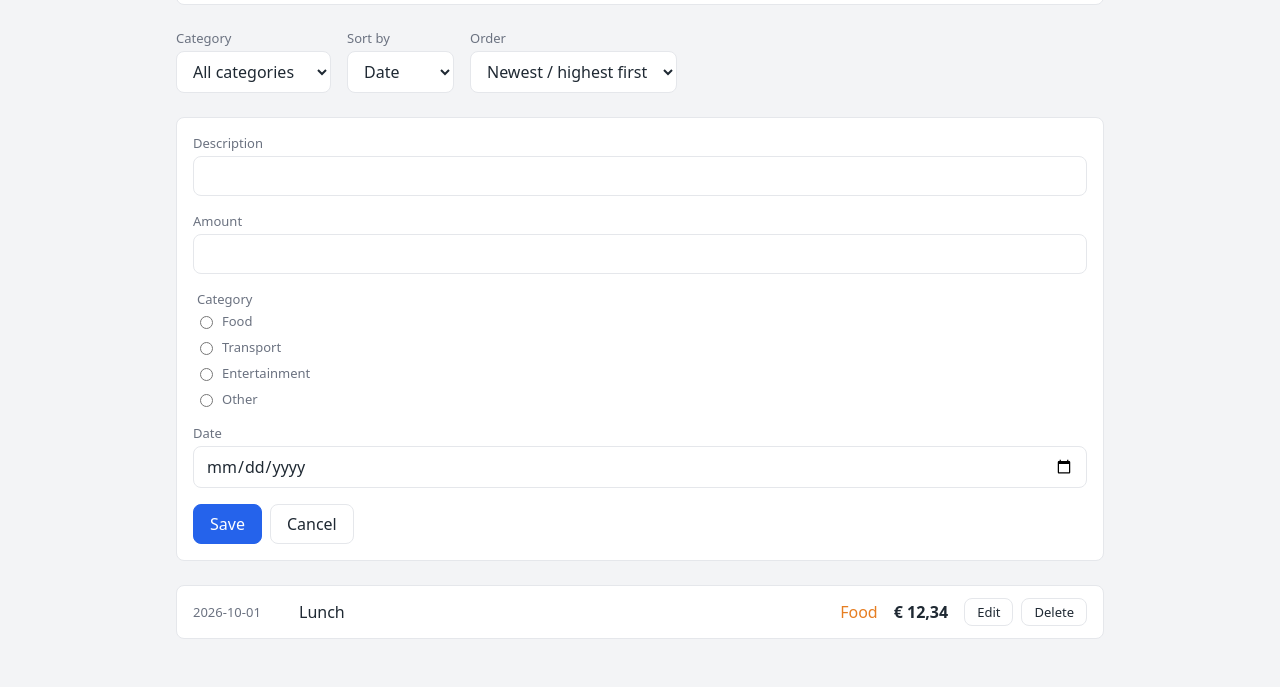
Test: App › leaves the list untouched when the delete dialog is dismissed
(page scrolled)
Click the button "Delete" at [1054, 612], box [1022, 598, 1087, 626]
(page scrolled)
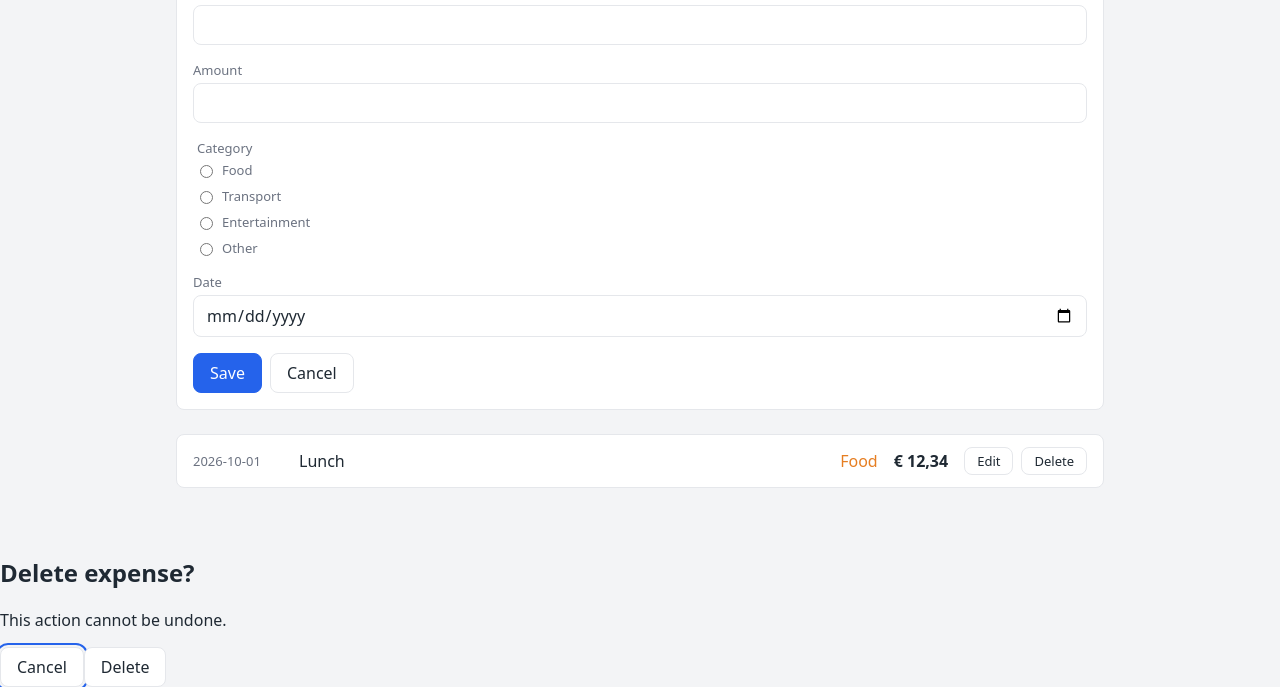
Click the button "Cancel" below "This action cannot be undone." at [42, 667], box [0, 647, 84, 686]
(page scrolled)
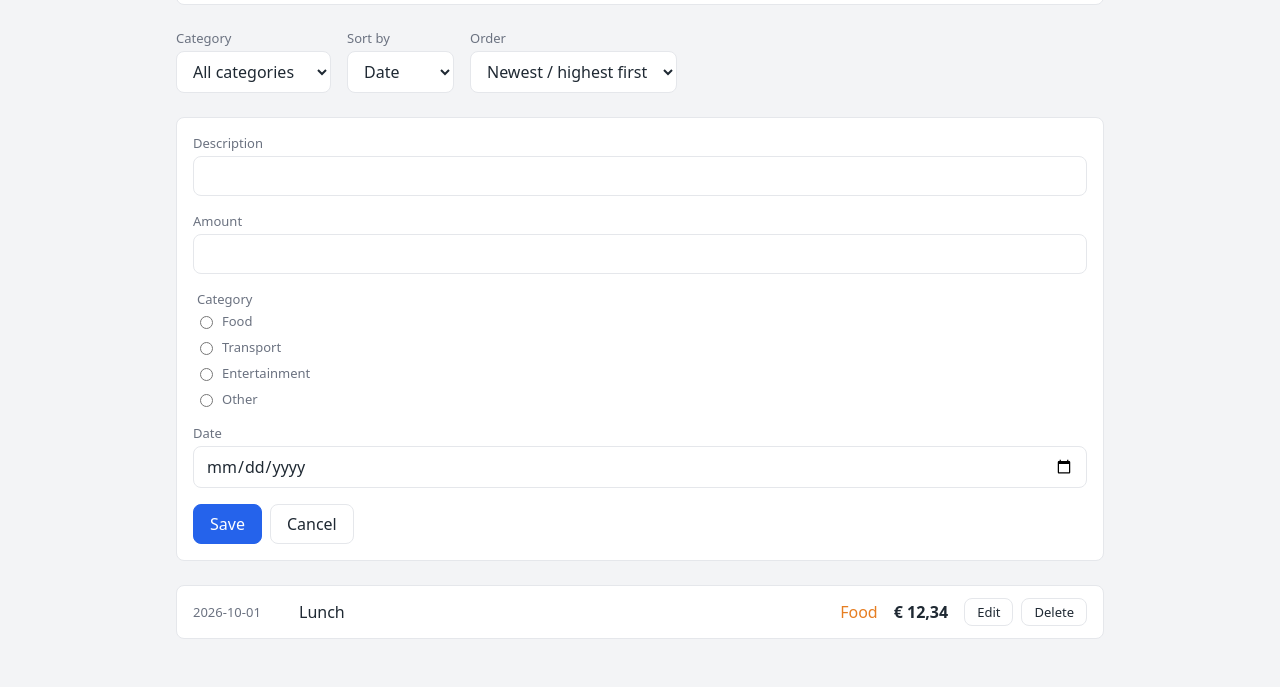
Expected: the number of list items with class "expense-item" is 1, [176, 585, 1104, 639]
Result: the dialog with class "dialog" is gone
